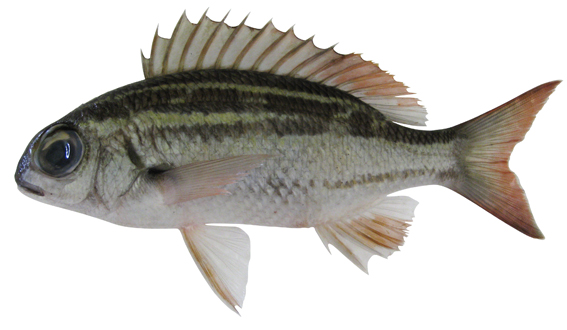fish: (14, 7, 563, 318)
